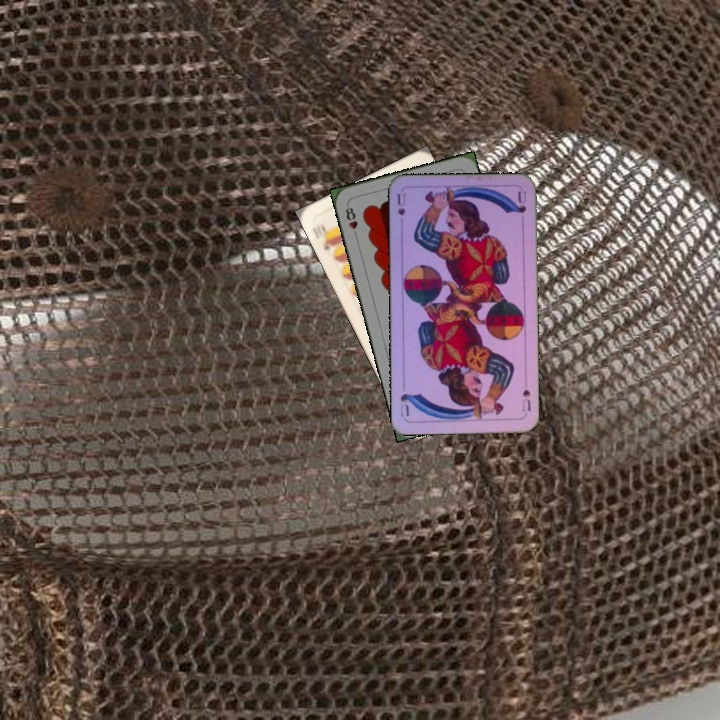E10: (308, 220, 337, 253)
H8: (341, 200, 360, 240)
SU: (393, 189, 408, 230), (518, 386, 533, 414)
